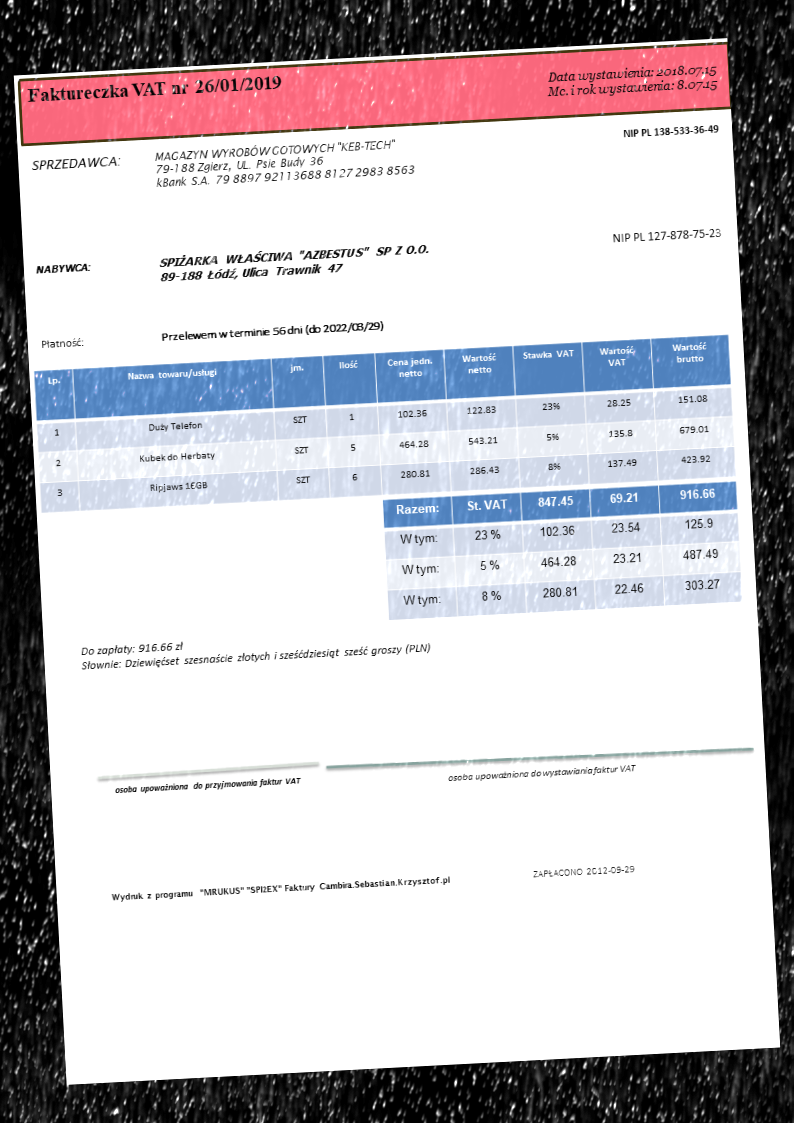Table: (32, 334, 738, 514), (382, 480, 743, 622)
TextBox: (78, 627, 433, 674), (151, 136, 417, 192), (156, 238, 433, 285), (109, 871, 453, 906), (25, 70, 284, 106), (544, 60, 719, 102), (159, 318, 384, 345), (443, 760, 638, 785), (112, 773, 303, 798), (608, 223, 721, 246), (530, 861, 636, 881), (619, 121, 721, 141), (28, 153, 121, 174), (33, 259, 91, 277), (38, 334, 87, 352)
